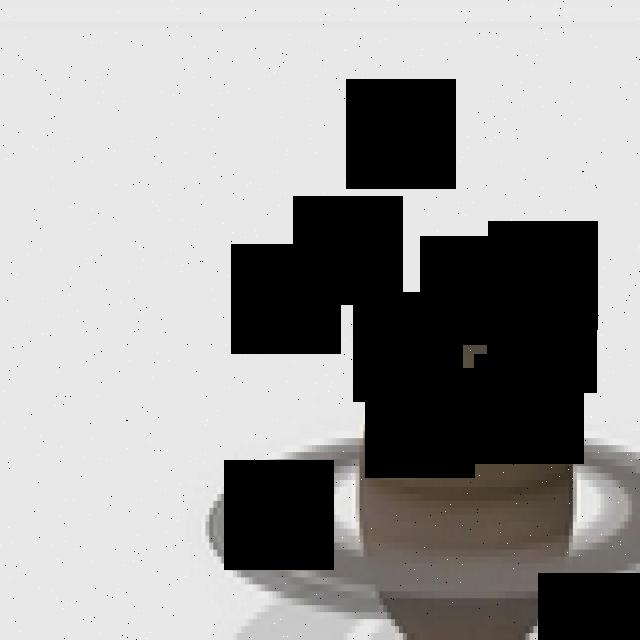Saturn: (206, 306, 640, 640)
